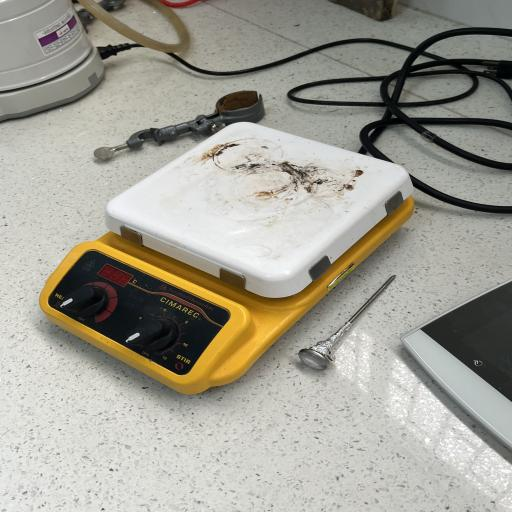Plancha_Agitacion_Cimarec: (29, 113, 429, 402)
